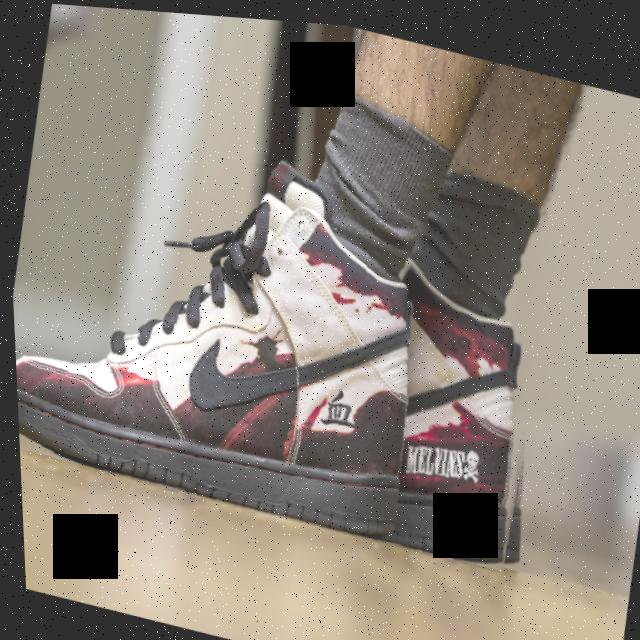shoe: (3, 94, 575, 572)
